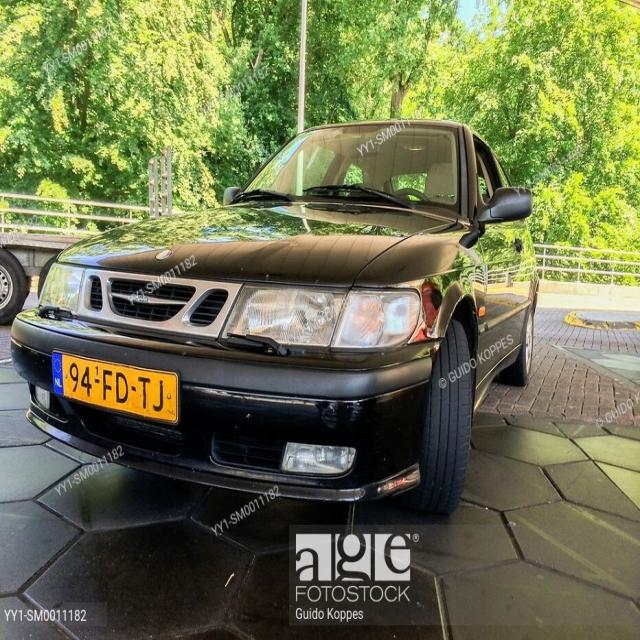num_plate: (49, 348, 178, 422)
